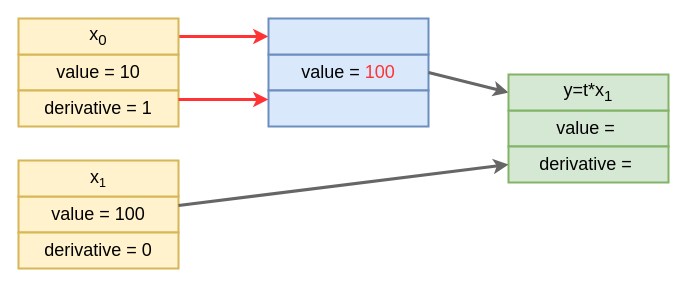
The diagram is 686 pixels wide and 286 high, and some of its shapes have lost their labels. The shapes that lost their labels are listed below. From the top down, each one's centre as x and y in pixels, then its label:
At [348,36]: "t=x 0 *x 0".
At [348,108]: "derivative = 20".
